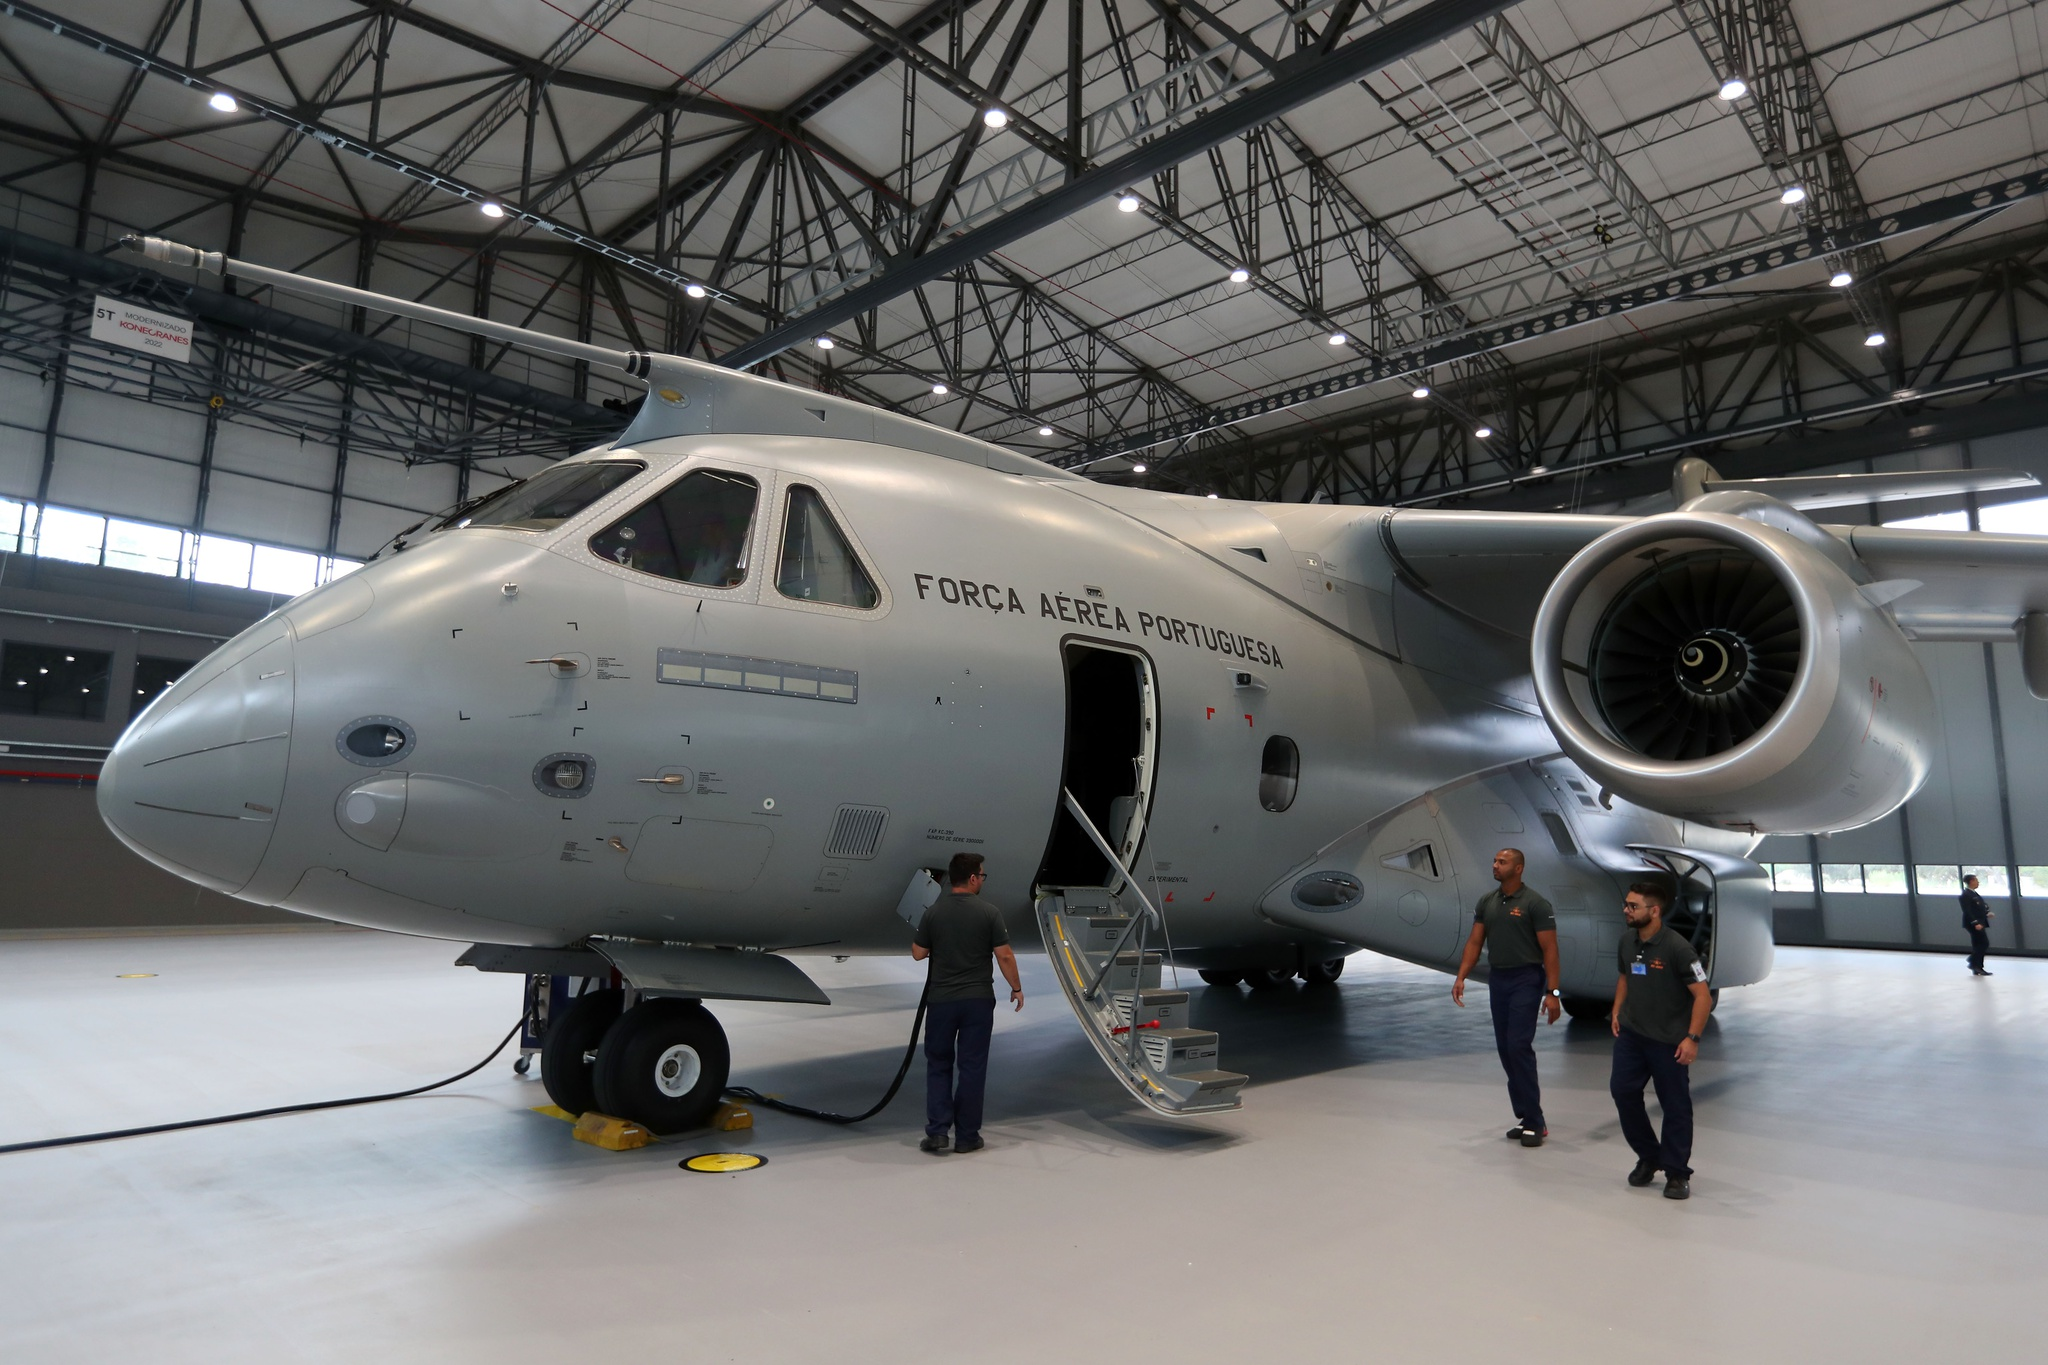airplane: (90, 238, 2048, 1144)
